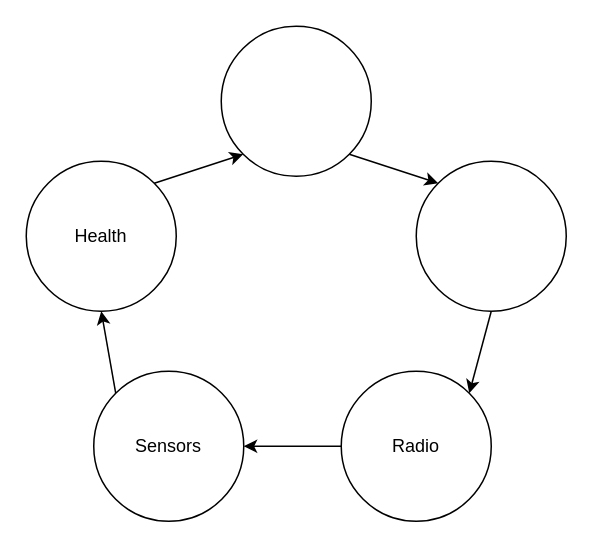
This 593x548 diagram has some shape labels left out. The shapes that lost their labels are listed below. From the top down, each one's centre as x and y in pixels, then its label:
At point 295,100: "Storage".
At point 490,235: "Communication".
